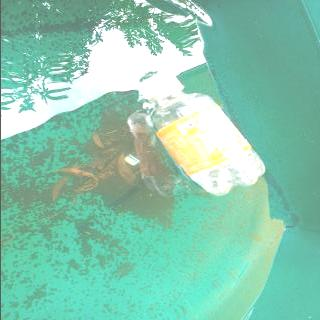bottle: (134, 70, 270, 198)
